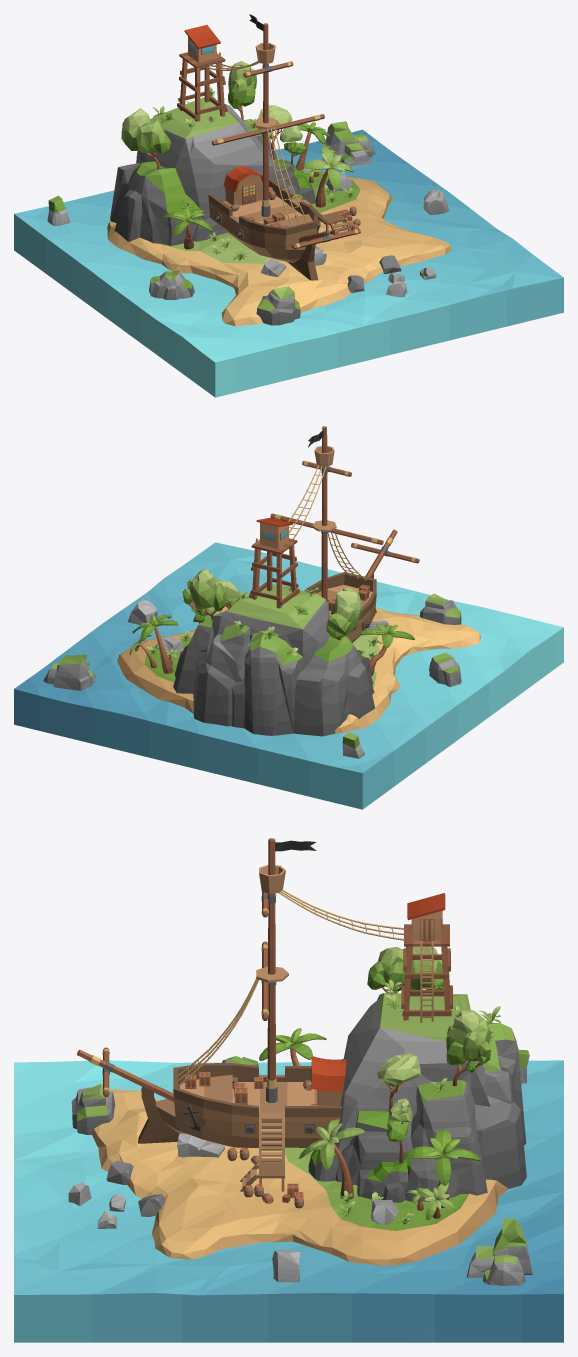
File: creator_mountain_ship.glb
3 renders of one model, top to bottom at view 1: azimuth 30°, elevation 25°; view 2: azimuth 150°, elevation 25°; view 3: azimuth 270°, elevation 25°, orthographic. The views are drawn at different scales.
Visible parts, largest first — view 1: water location mountain ship_29, island mountain ship_0, mountain 4_15, destroyed ship 5_65, observation tower_30, tree 3_18, green stone 6_49, tree 2_68, palm tree tilted 3 (1)_5, green stone 4_9, palm tree bent 3_25, green stone_59 (+8 smaller); view 2: water location mountain ship_29, mountain 4_15, island mountain ship_0, destroyed ship 5_65, observation tower_30, tree 2_68, tree 3_18, green stone_59, green stone 6_49, green stone 4_9, palm tree large 3_52, palm tree bent 3_25 (+1 smaller); view 3: water location mountain ship_29, island mountain ship_0, mountain 4_15, destroyed ship 5_65, observation tower_30, tree 2_68, tree 3_18, steps 4_45, green stone 6_49, palm tree tilted 3 (1)_5, palm tree large 3_52, green stone_59 (+11 smaller).
Boxes of the visible parts, <box> form: water location mountain ship_29: <box>14,129,563,397</box>; island mountain ship_0: <box>107,172,451,326</box>; mountain 4_15: <box>110,95,315,245</box>; destroyed ship 5_65: <box>208,14,360,280</box>; observation tower_30: <box>177,25,227,121</box>; tree 3_18: <box>121,108,170,169</box>; green stone 6_49: <box>256,286,300,325</box>; tree 2_68: <box>228,61,256,120</box>; palm tree tilted 3 (1)_5: <box>303,146,354,207</box>; green stone 4_9: <box>149,270,194,299</box>; palm tree bent 3_25: <box>163,208,212,249</box>; green stone_59: <box>324,121,357,161</box>; water location mountain ship_29: <box>14,542,563,809</box>; mountain 4_15: <box>173,584,374,736</box>; island mountain ship_0: <box>117,594,480,733</box>; destroyed ship 5_65: <box>270,426,419,642</box>; observation tower_30: <box>249,517,299,608</box>; tree 2_68: <box>182,569,226,620</box>; tree 3_18: <box>326,587,362,639</box>; green stone_59: <box>53,654,94,690</box>; green stone 6_49: <box>419,593,461,624</box>; green stone 4_9: <box>429,652,461,686</box>; palm tree large 3_52: <box>132,614,178,673</box>; palm tree bent 3_25: <box>359,624,414,675</box>; water location mountain ship_29: <box>14,1060,563,1342</box>; island mountain ship_0: <box>92,1089,507,1265</box>; mountain 4_15: <box>308,993,526,1202</box>; destroyed ship 5_65: <box>77,838,346,1147</box>; observation tower_30: <box>401,893,452,1020</box>; tree 2_68: <box>446,1010,491,1086</box>; tree 3_18: <box>367,946,443,993</box>; steps 4_45: <box>240,1112,284,1191</box>; green stone 6_49: <box>71,1084,115,1134</box>; palm tree tilted 3 (1)_5: <box>299,1118,364,1198</box>; palm tree large 3_52: <box>404,1129,481,1207</box>; green stone_59: <box>492,1218,532,1274</box>.
Bounding box in the file's own units: 45 × 33.27 × 45.
Materials: 1 (1 with a texture image).
